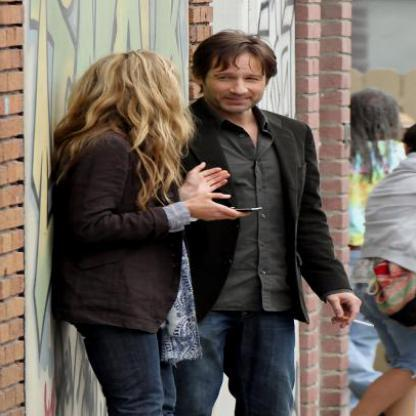cigarette: (337, 316, 376, 328)
person: (35, 50, 221, 415), (170, 30, 341, 416)
